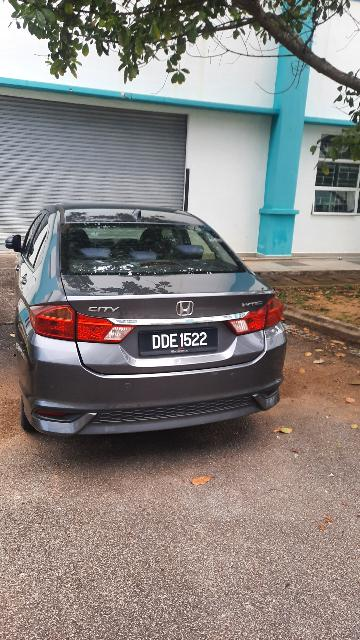License_Plate: (135, 327, 228, 359)
car: (4, 192, 290, 440)
